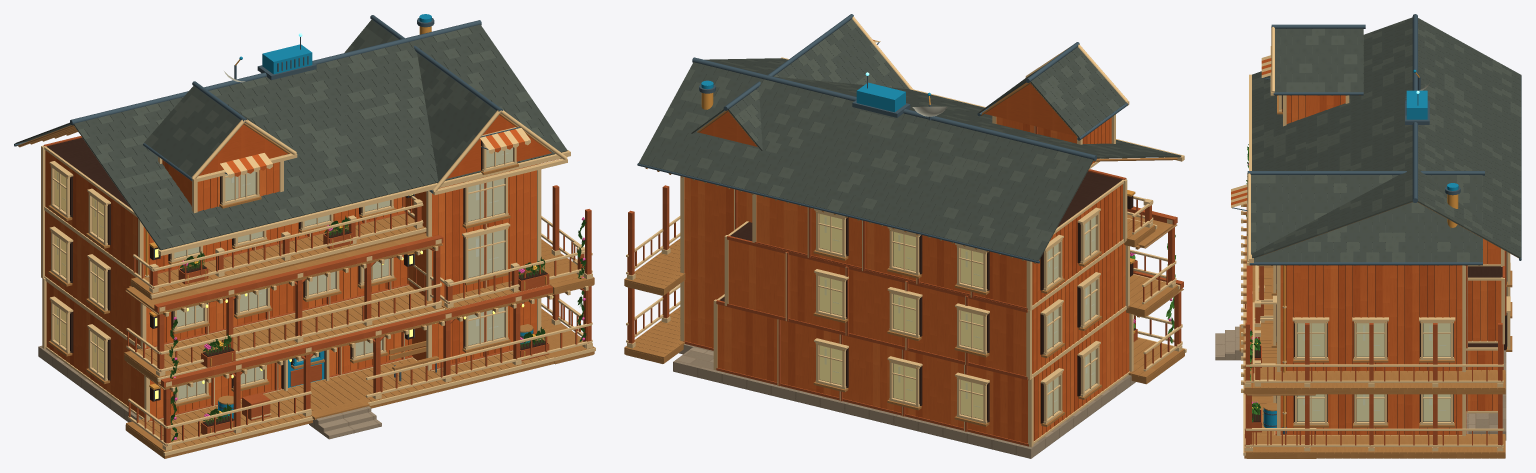
File: frontier-farmhouse-gsZayf_8.glb
The picture shows the model from 3 angles, left to right: view 1: azimuth 30°, elevation 25°; view 2: azimuth 150°, elevation 25°; view 3: azimuth 270°, elevation 25°; orthographic projection. The views are drawn at different scales.
Parts seen in each view (by area): view 1: house-farm-slate-roof-0, house-farm-cream-trim, house-farm-gallery-planks, house-farm-orange-wood-0, house-farm-brown-timber, house-farm-slate-roof-1, house-farm-window-recess, house-farm-window-glass, house-farm-orange-wood-1, house-farm-orange-wood-2, house-farm-shadow-timber, house-farm-dark-steel (+4 smaller); view 2: house-farm-slate-roof-0, house-farm-orange-wood-0, house-farm-cream-trim, house-farm-slate-roof-1, house-farm-orange-wood-2, house-farm-gallery-planks, house-farm-brown-timber, house-farm-window-recess, house-farm-window-glass, house-farm-orange-wood-1, house-farm-foundation-stone, house-farm-dark-steel (+2 smaller); view 3: house-farm-slate-roof-0, house-farm-orange-wood-0, house-farm-slate-roof-1, house-farm-gallery-planks, house-farm-cream-trim, house-farm-orange-wood-1, house-farm-brown-timber, house-farm-window-recess, house-farm-dark-steel, house-farm-window-glass, house-farm-shadow-timber, house-farm-orange-wood-2 (+5 smaller).
Boxes of the visible parts, left/top/right/bottom form: house-farm-slate-roof-0: left=15, top=19, right=567, bottom=250; house-farm-cream-trim: left=41, top=110, right=595, bottom=455; house-farm-gallery-planks: left=18, top=113, right=594, bottom=458; house-farm-orange-wood-0: left=45, top=150, right=536, bottom=419; house-farm-brown-timber: left=43, top=136, right=591, bottom=446; house-farm-slate-roof-1: left=26, top=27, right=560, bottom=247; house-farm-window-recess: left=55, top=147, right=512, bottom=399; house-farm-window-glass: left=55, top=148, right=512, bottom=398; house-farm-orange-wood-1: left=49, top=115, right=558, bottom=396; house-farm-orange-wood-2: left=53, top=167, right=444, bottom=417; house-farm-shadow-timber: left=47, top=138, right=547, bottom=426; house-farm-dark-steel: left=14, top=15, right=561, bottom=408; house-farm-slate-roof-0: left=638, top=23, right=1181, bottom=260; house-farm-orange-wood-0: left=691, top=84, right=1129, bottom=441; house-farm-cream-trim: left=626, top=16, right=1186, bottom=446; house-farm-slate-roof-1: left=660, top=19, right=1169, bottom=249; house-farm-orange-wood-2: left=684, top=116, right=1125, bottom=437; house-farm-gallery-planks: left=624, top=82, right=1184, bottom=426; house-farm-brown-timber: left=627, top=126, right=1183, bottom=446; house-farm-window-recess: left=819, top=214, right=1095, bottom=419; house-farm-window-glass: left=820, top=214, right=1095, bottom=418; house-farm-orange-wood-1: left=726, top=40, right=1122, bottom=443; house-farm-foundation-stone: left=673, top=344, right=1135, bottom=458; house-farm-dark-steel: left=637, top=14, right=1128, bottom=263; house-farm-slate-roof-0: left=1251, top=17, right=1521, bottom=262; house-farm-orange-wood-0: left=1280, top=95, right=1501, bottom=435; house-farm-slate-roof-1: left=1251, top=20, right=1521, bottom=262; house-farm-gallery-planks: left=1239, top=95, right=1518, bottom=458; house-farm-cream-trim: left=1231, top=26, right=1510, bottom=455; house-farm-orange-wood-1: left=1231, top=58, right=1495, bottom=434; house-farm-brown-timber: left=1245, top=203, right=1506, bottom=447; house-farm-window-recess: left=1276, top=95, right=1507, bottom=421; house-farm-dark-steel: left=1232, top=14, right=1521, bottom=434; house-farm-window-glass: left=1298, top=323, right=1450, bottom=421; house-farm-shadow-timber: left=1252, top=95, right=1506, bottom=434; house-farm-orange-wood-2: left=1292, top=95, right=1497, bottom=434.
Bounding box in the file's own units: 17.32 × 11.94 × 11.53.
Materials: 23 (14 with a texture image).
